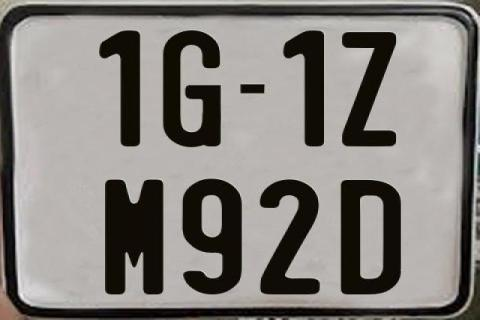0: (179, 177, 244, 296), (258, 178, 322, 296), (283, 28, 327, 146), (96, 28, 140, 144)
D: (341, 178, 403, 294)
G: (162, 28, 223, 147)
M: (103, 177, 165, 295)
Z: (342, 30, 400, 148)
